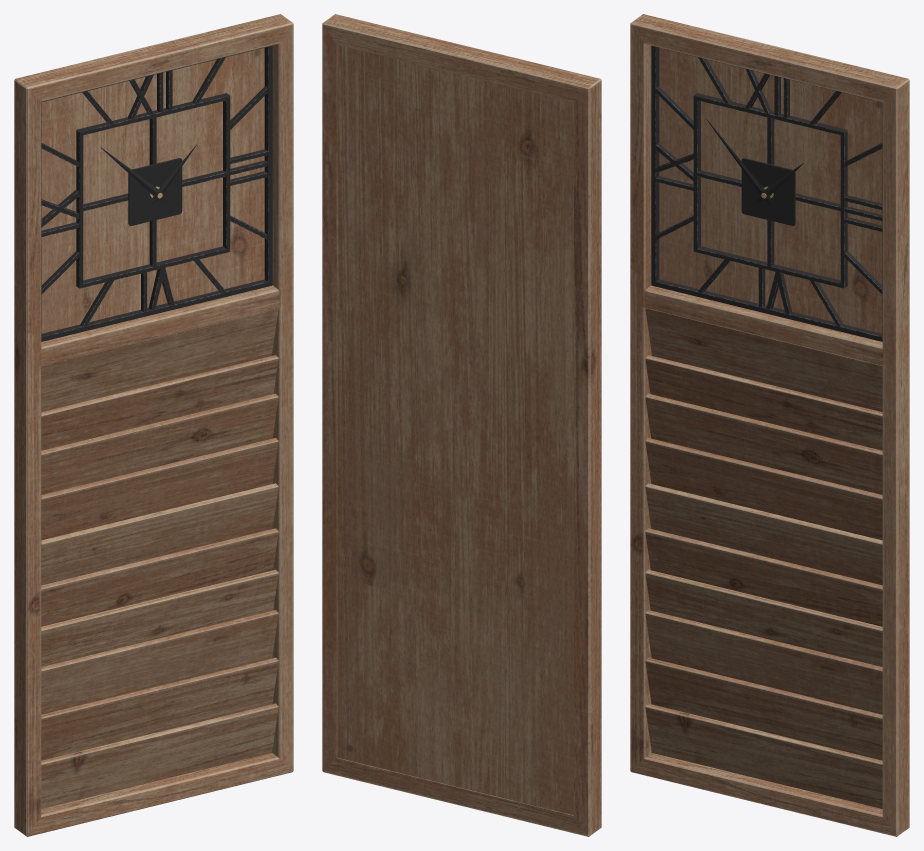
Rendered from clock_B07B8XC5QS.glb.
3 renders of one model, left to right at view 1: azimuth 30°, elevation 25°; view 2: azimuth 150°, elevation 25°; view 3: azimuth 330°, elevation 25°, orthographic.
Visible parts, largest first — view 1: RootNode; view 2: RootNode; view 3: RootNode.
Boxes of the visible parts, left/top/right/bottom form: RootNode: left=14, top=14, right=293, bottom=836; RootNode: left=322, top=14, right=601, bottom=836; RootNode: left=630, top=14, right=909, bottom=836.
Bounding box in the file's own units: 0.3606 × 0.9652 × 0.0305.
1 material, 1 textured.
